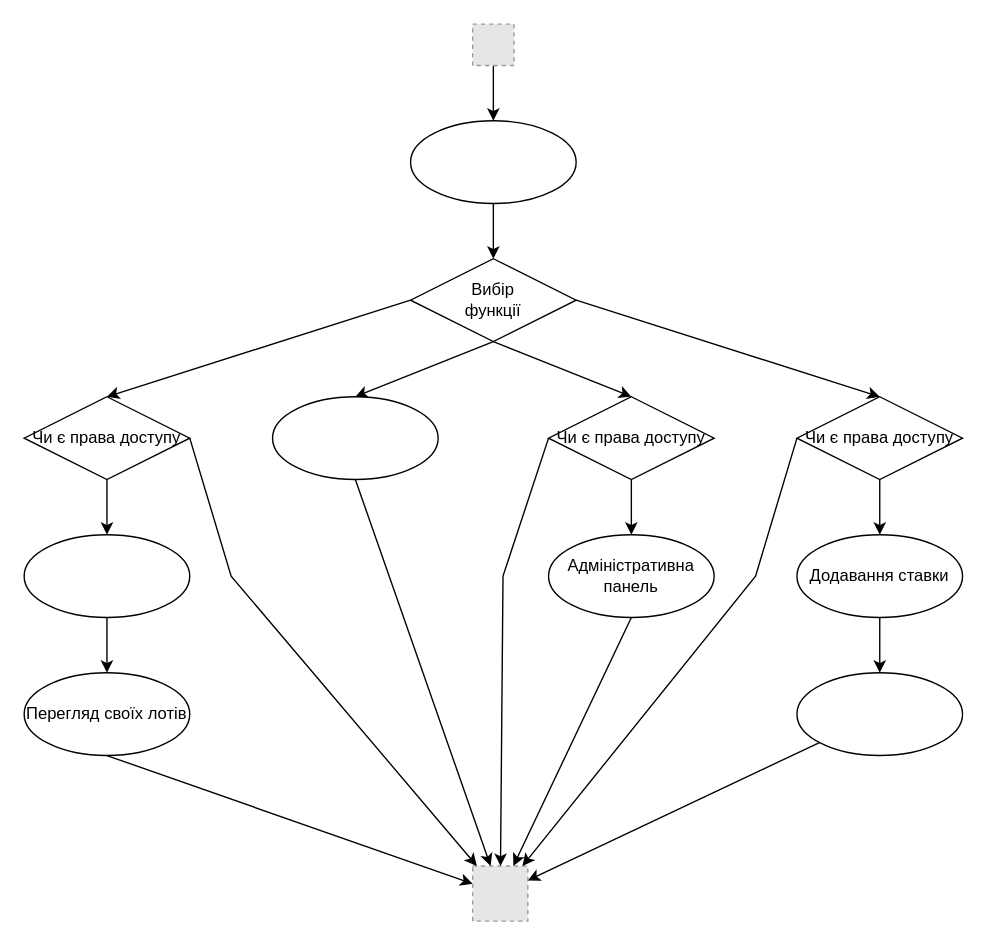
Some shapes in this 987 by 945 pixel diagram are drawn without their labels. Grey dashed boxes stand in for pictures. The shapes that lost their labels are listed below. From the top down, each one's centre as x and y in pixels, then its label:
At [492,161]: "Авторизація".
At [354,437]: "Перегляд лотів".
At [106,575]: "Додавання лоту".
At [879,713]: "Перегляд своїх ставок".
